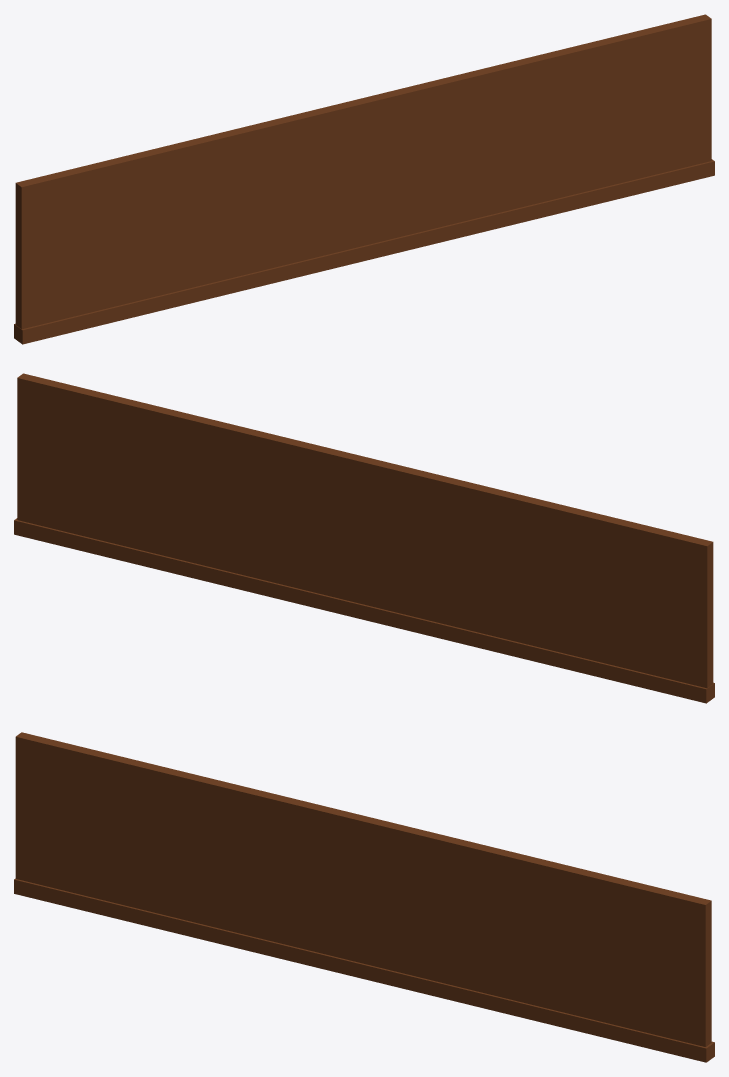
The model's file is Fence 1.fbx.
3 renders of one model, top to bottom at view 1: azimuth 30°, elevation 25°; view 2: azimuth 150°, elevation 25°; view 3: azimuth 330°, elevation 25°, orthographic.
Parts seen in each view (by area): view 1: building_001; view 2: building_001; view 3: building_001.
Boxes of the visible parts, x1,y1,x2,y2 form: building_001: (14,14,714,344); building_001: (14,373,714,703); building_001: (14,732,714,1062).
Bounding box in the file's own units: 1020 × 220 × 21.83.
